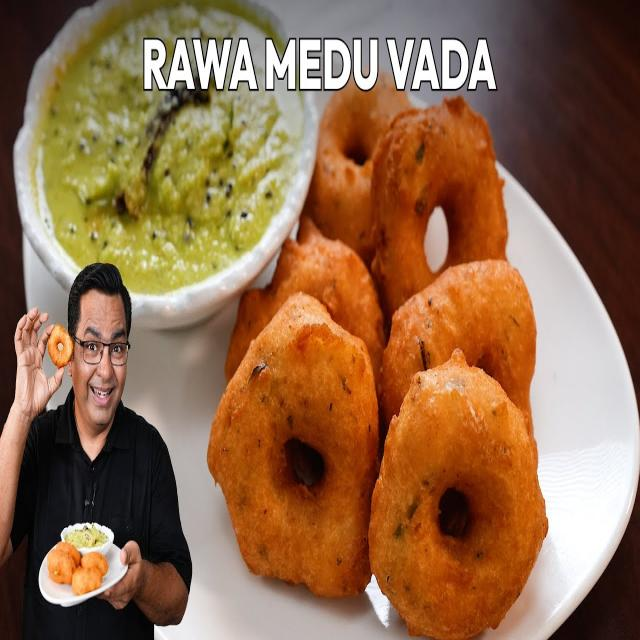MEDU VADA: (208, 292, 379, 596), (369, 349, 547, 639), (372, 97, 506, 308), (380, 260, 535, 438), (226, 217, 384, 380), (302, 74, 412, 260)
